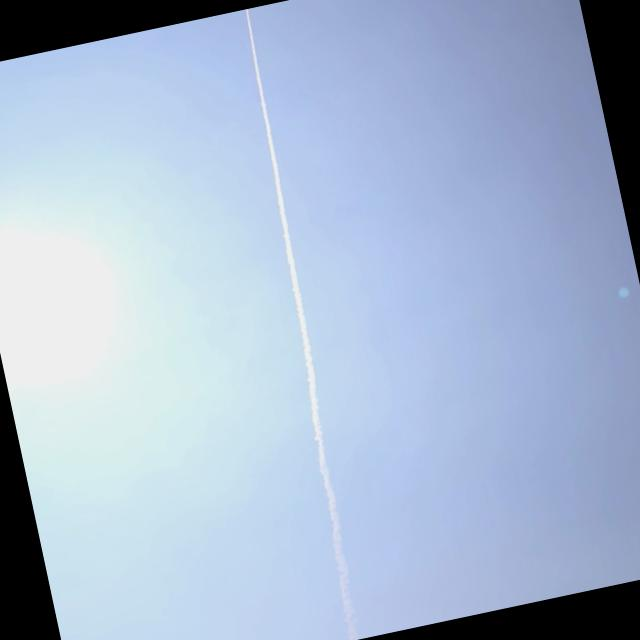smoke_trail_with_rocket: (245, 20, 358, 640)
